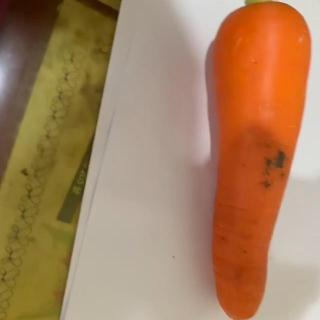carrot: (210, 0, 312, 320)
